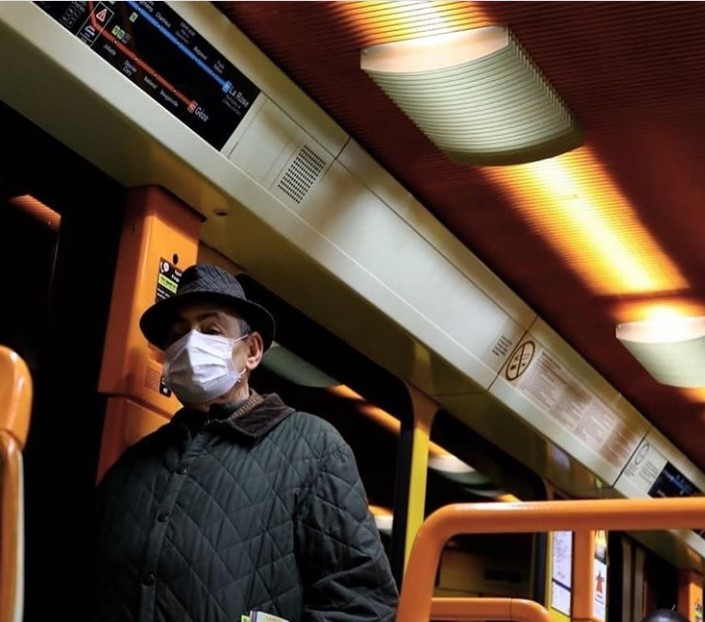face_with_mask: (136, 259, 276, 408)
